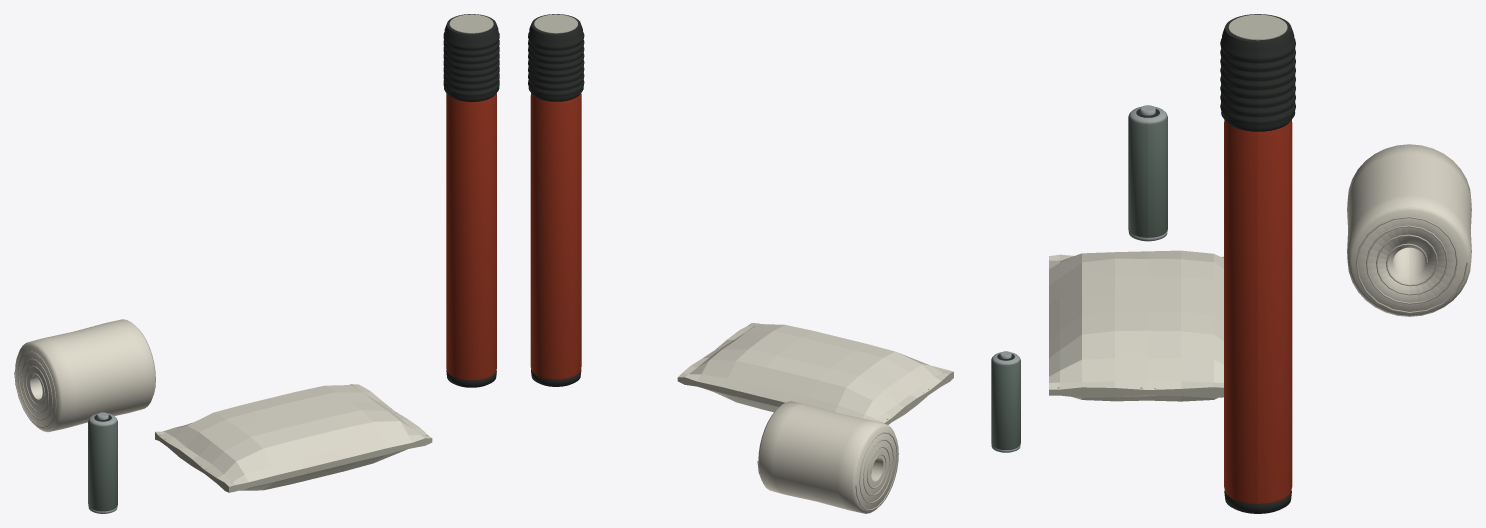
File: supply_kit.glb
3 views of the same model, side by side, from view 1: azimuth 30°, elevation 25°; view 2: azimuth 150°, elevation 25°; view 3: azimuth 270°, elevation 25° (orthographic). The views are drawn at different scales.
Parts seen in each view (by area): view 1: BandagePack_BandageLabel_SupplyPaperEdges, FlareStick_FlareLabel, BandageRoll_BandageGauze, FlareStick_SupplyDarkRubber, BatteryCell_BatteryLabel, BandageRoll_BandageLayerEdges, FlareStick_SupplyPaperEdges; view 2: BandagePack_BandageLabel_SupplyPaperEdges, FlareStick_FlareLabel, BandageRoll_BandageGauze, FlareStick_SupplyDarkRubber, BatteryCell_BatteryLabel, BandageRoll_BandageLayerEdges, FlareStick_SupplyPaperEdges; view 3: BandagePack_BandageLabel_SupplyPaperEdges, FlareStick_FlareLabel, BandageRoll_BandageGauze, FlareStick_SupplyDarkRubber, BatteryCell_BatteryLabel, BandageRoll_BandageLayerEdges, FlareStick_SupplyPaperEdges, BatteryCell_SupplyNickel.
Boxes of the visible parts, left/top/right/bottom form: BandagePack_BandageLabel_SupplyPaperEdges: left=155, top=384, right=432, bottom=492; FlareStick_FlareLabel: left=446, top=93, right=496, bottom=380; BandageRoll_BandageGauze: left=15, top=319, right=155, bottom=432; FlareStick_SupplyDarkRubber: left=443, top=14, right=499, bottom=387; BatteryCell_BatteryLabel: left=88, top=420, right=117, bottom=511; BandageRoll_BandageLayerEdges: left=14, top=351, right=56, bottom=428; FlareStick_SupplyPaperEdges: left=449, top=14, right=493, bottom=33; BandagePack_BandageLabel_SupplyPaperEdges: left=677, top=323, right=953, bottom=424; FlareStick_FlareLabel: left=530, top=93, right=581, bottom=379; BandageRoll_BandageGauze: left=758, top=401, right=898, bottom=513; FlareStick_SupplyDarkRubber: left=528, top=14, right=584, bottom=386; BatteryCell_BatteryLabel: left=991, top=359, right=1020, bottom=449; BandageRoll_BandageLayerEdges: left=757, top=432, right=897, bottom=510; FlareStick_SupplyPaperEdges: left=534, top=14, right=577, bottom=33; BandagePack_BandageLabel_SupplyPaperEdges: left=1049, top=250, right=1223, bottom=401; FlareStick_FlareLabel: left=1224, top=120, right=1292, bottom=503; BandageRoll_BandageGauze: left=1347, top=144, right=1471, bottom=316; FlareStick_SupplyDarkRubber: left=1220, top=14, right=1295, bottom=513; BatteryCell_BatteryLabel: left=1128, top=115, right=1167, bottom=237; BandageRoll_BandageLayerEdges: left=1356, top=216, right=1467, bottom=313; FlareStick_SupplyPaperEdges: left=1228, top=14, right=1287, bottom=40; BatteryCell_SupplyNickel: left=1128, top=105, right=1167, bottom=241.
Size of the model in its own units: 0.2509 by 0.1906 by 0.1537.
